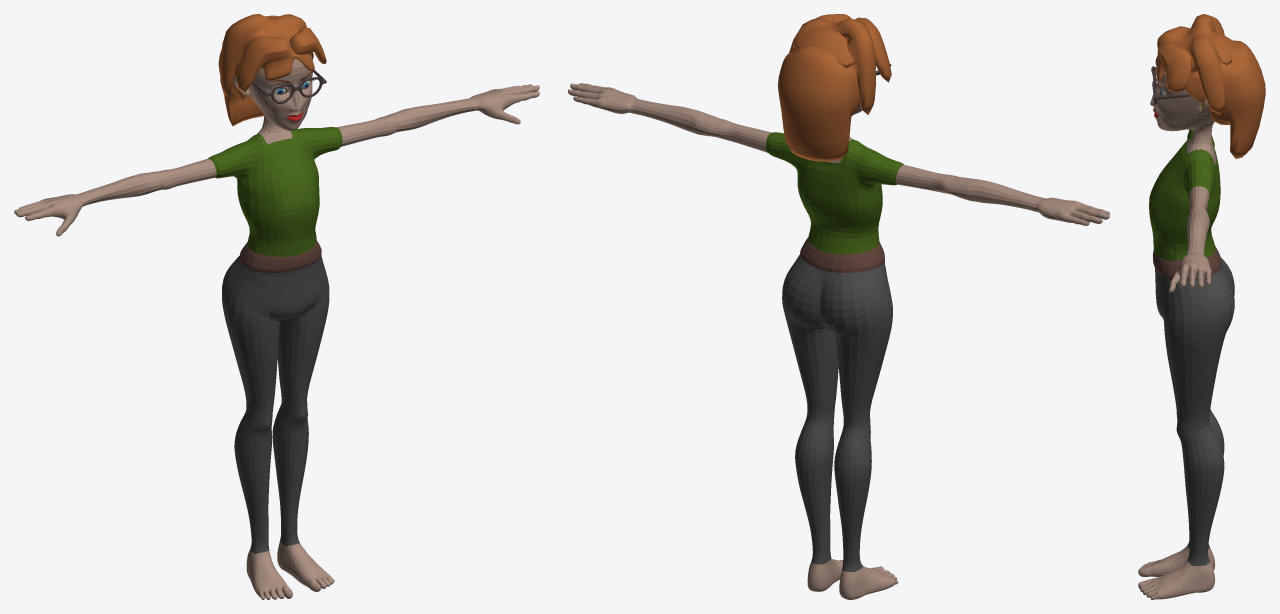
File: Main1.fbx
The picture shows the model from 3 angles, left to right: view 1: azimuth 30°, elevation 25°; view 2: azimuth 150°, elevation 25°; view 3: azimuth 270°, elevation 25°; orthographic projection. The views are drawn at different scales.
Visible parts, largest first — view 1: uploads_files_1011747_Base_Woman14, uploads_files_1011747_Base_Woman14.001; view 2: uploads_files_1011747_Base_Woman14, uploads_files_1011747_Base_Woman14.001; view 3: uploads_files_1011747_Base_Woman14, uploads_files_1011747_Base_Woman14.001, Circle.
Part boxes in pixels (<box>): uploads_files_1011747_Base_Woman14: <box>14,55,539,599</box>; uploads_files_1011747_Base_Woman14.001: <box>218,14,326,125</box>; uploads_files_1011747_Base_Woman14: <box>568,65,1109,599</box>; uploads_files_1011747_Base_Woman14.001: <box>777,14,891,161</box>; uploads_files_1011747_Base_Woman14: <box>1138,58,1234,599</box>; uploads_files_1011747_Base_Woman14.001: <box>1155,14,1265,158</box>; Circle: <box>1151,66,1190,104</box>.
Bounding box in the file's own units: 1.82 × 1.86 × 0.3853.
